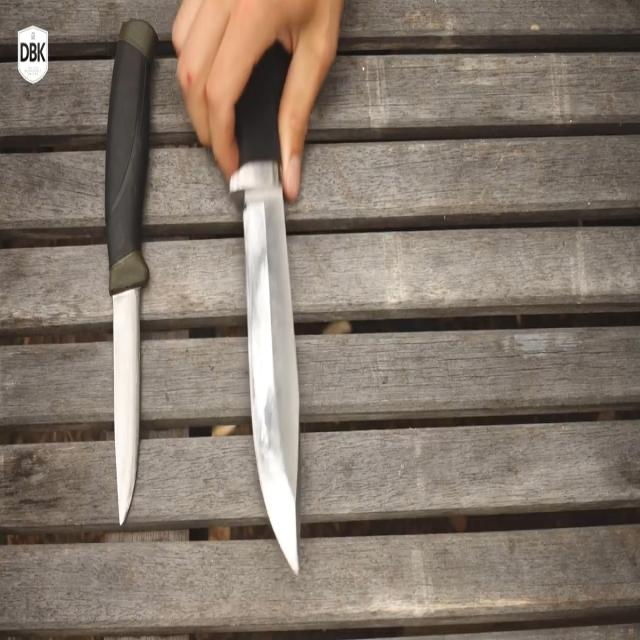knife: (229, 168, 315, 582), (108, 20, 155, 529)
